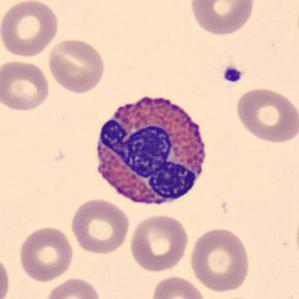Eosinophil: (88, 86, 216, 215)
Platelets: (220, 64, 244, 85)
RBC: (187, 226, 252, 293), (233, 85, 298, 144), (128, 212, 190, 273), (68, 197, 131, 255), (46, 36, 107, 95), (0, 0, 60, 58), (17, 224, 75, 282), (0, 58, 51, 113), (187, 0, 258, 37), (149, 274, 208, 299), (42, 275, 102, 299), (0, 252, 12, 299)
